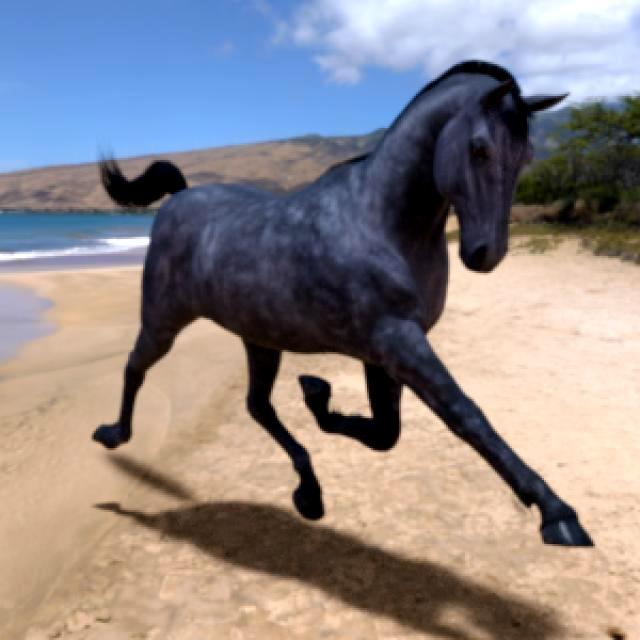horse: (94, 64, 589, 546)
